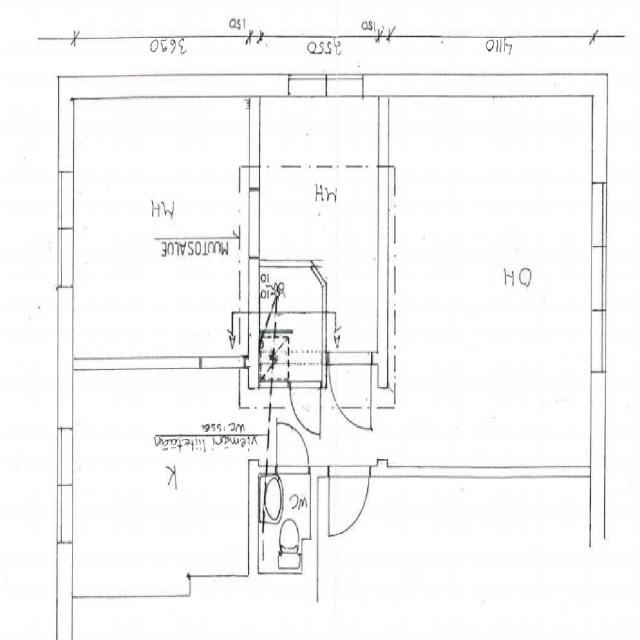door: (328, 353, 372, 429), (329, 467, 370, 537), (277, 420, 309, 474), (290, 382, 320, 435)
